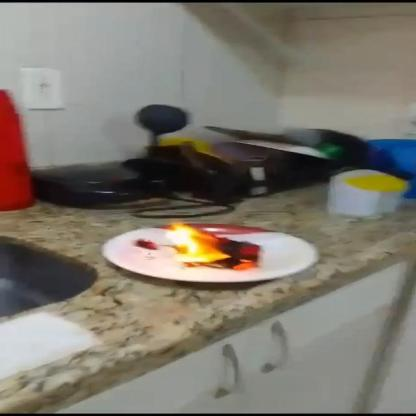fire: (165, 220, 229, 264)
